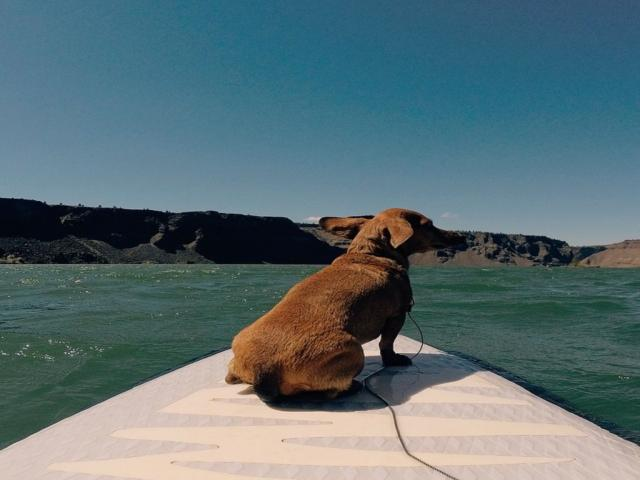Dog: (223, 208, 464, 406)
